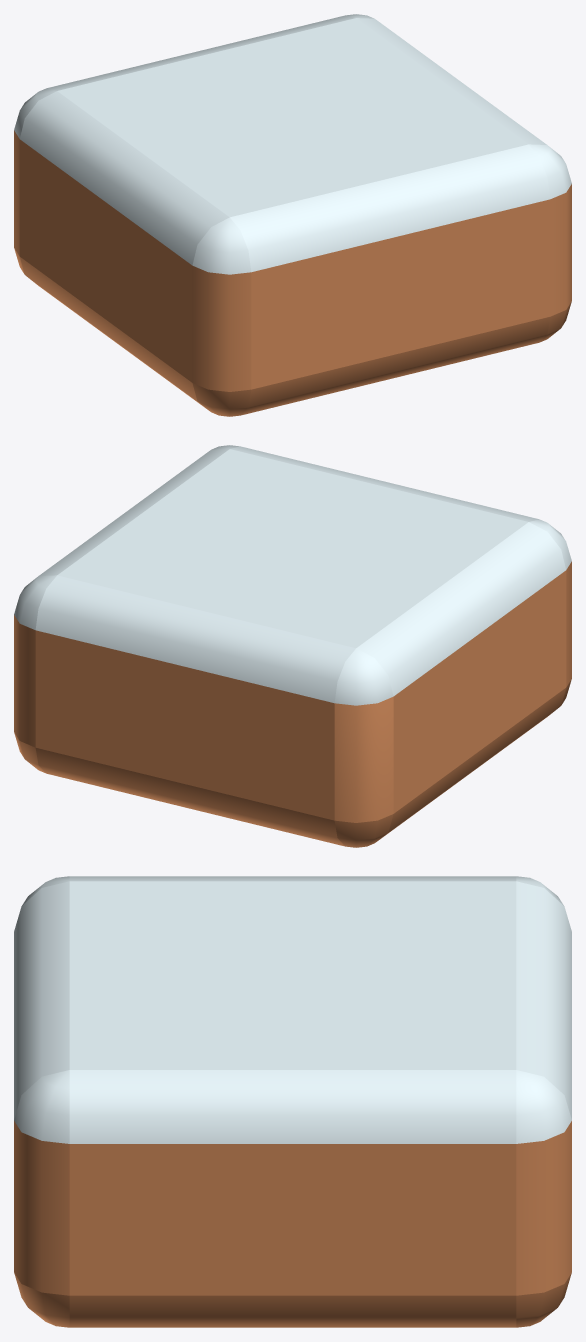
File: blockSnowRoundedLow.obj
3 views of the same model, one above another, from view 1: azimuth 30°, elevation 25°; view 2: azimuth 150°, elevation 25°; view 3: azimuth 270°, elevation 25° (orthographic). The views are drawn at different scales.
Parts seen in each view (by area): view 1: blockSnowRoundedLow; view 2: blockSnowRoundedLow; view 3: blockSnowRoundedLow.
Boxes of the visible parts, bbox=[...] form: blockSnowRoundedLow: bbox=[14, 14, 571, 416]; blockSnowRoundedLow: bbox=[14, 445, 571, 847]; blockSnowRoundedLow: bbox=[14, 876, 571, 1327].
Size of the model in its own units: 1 by 0.5 by 1.
